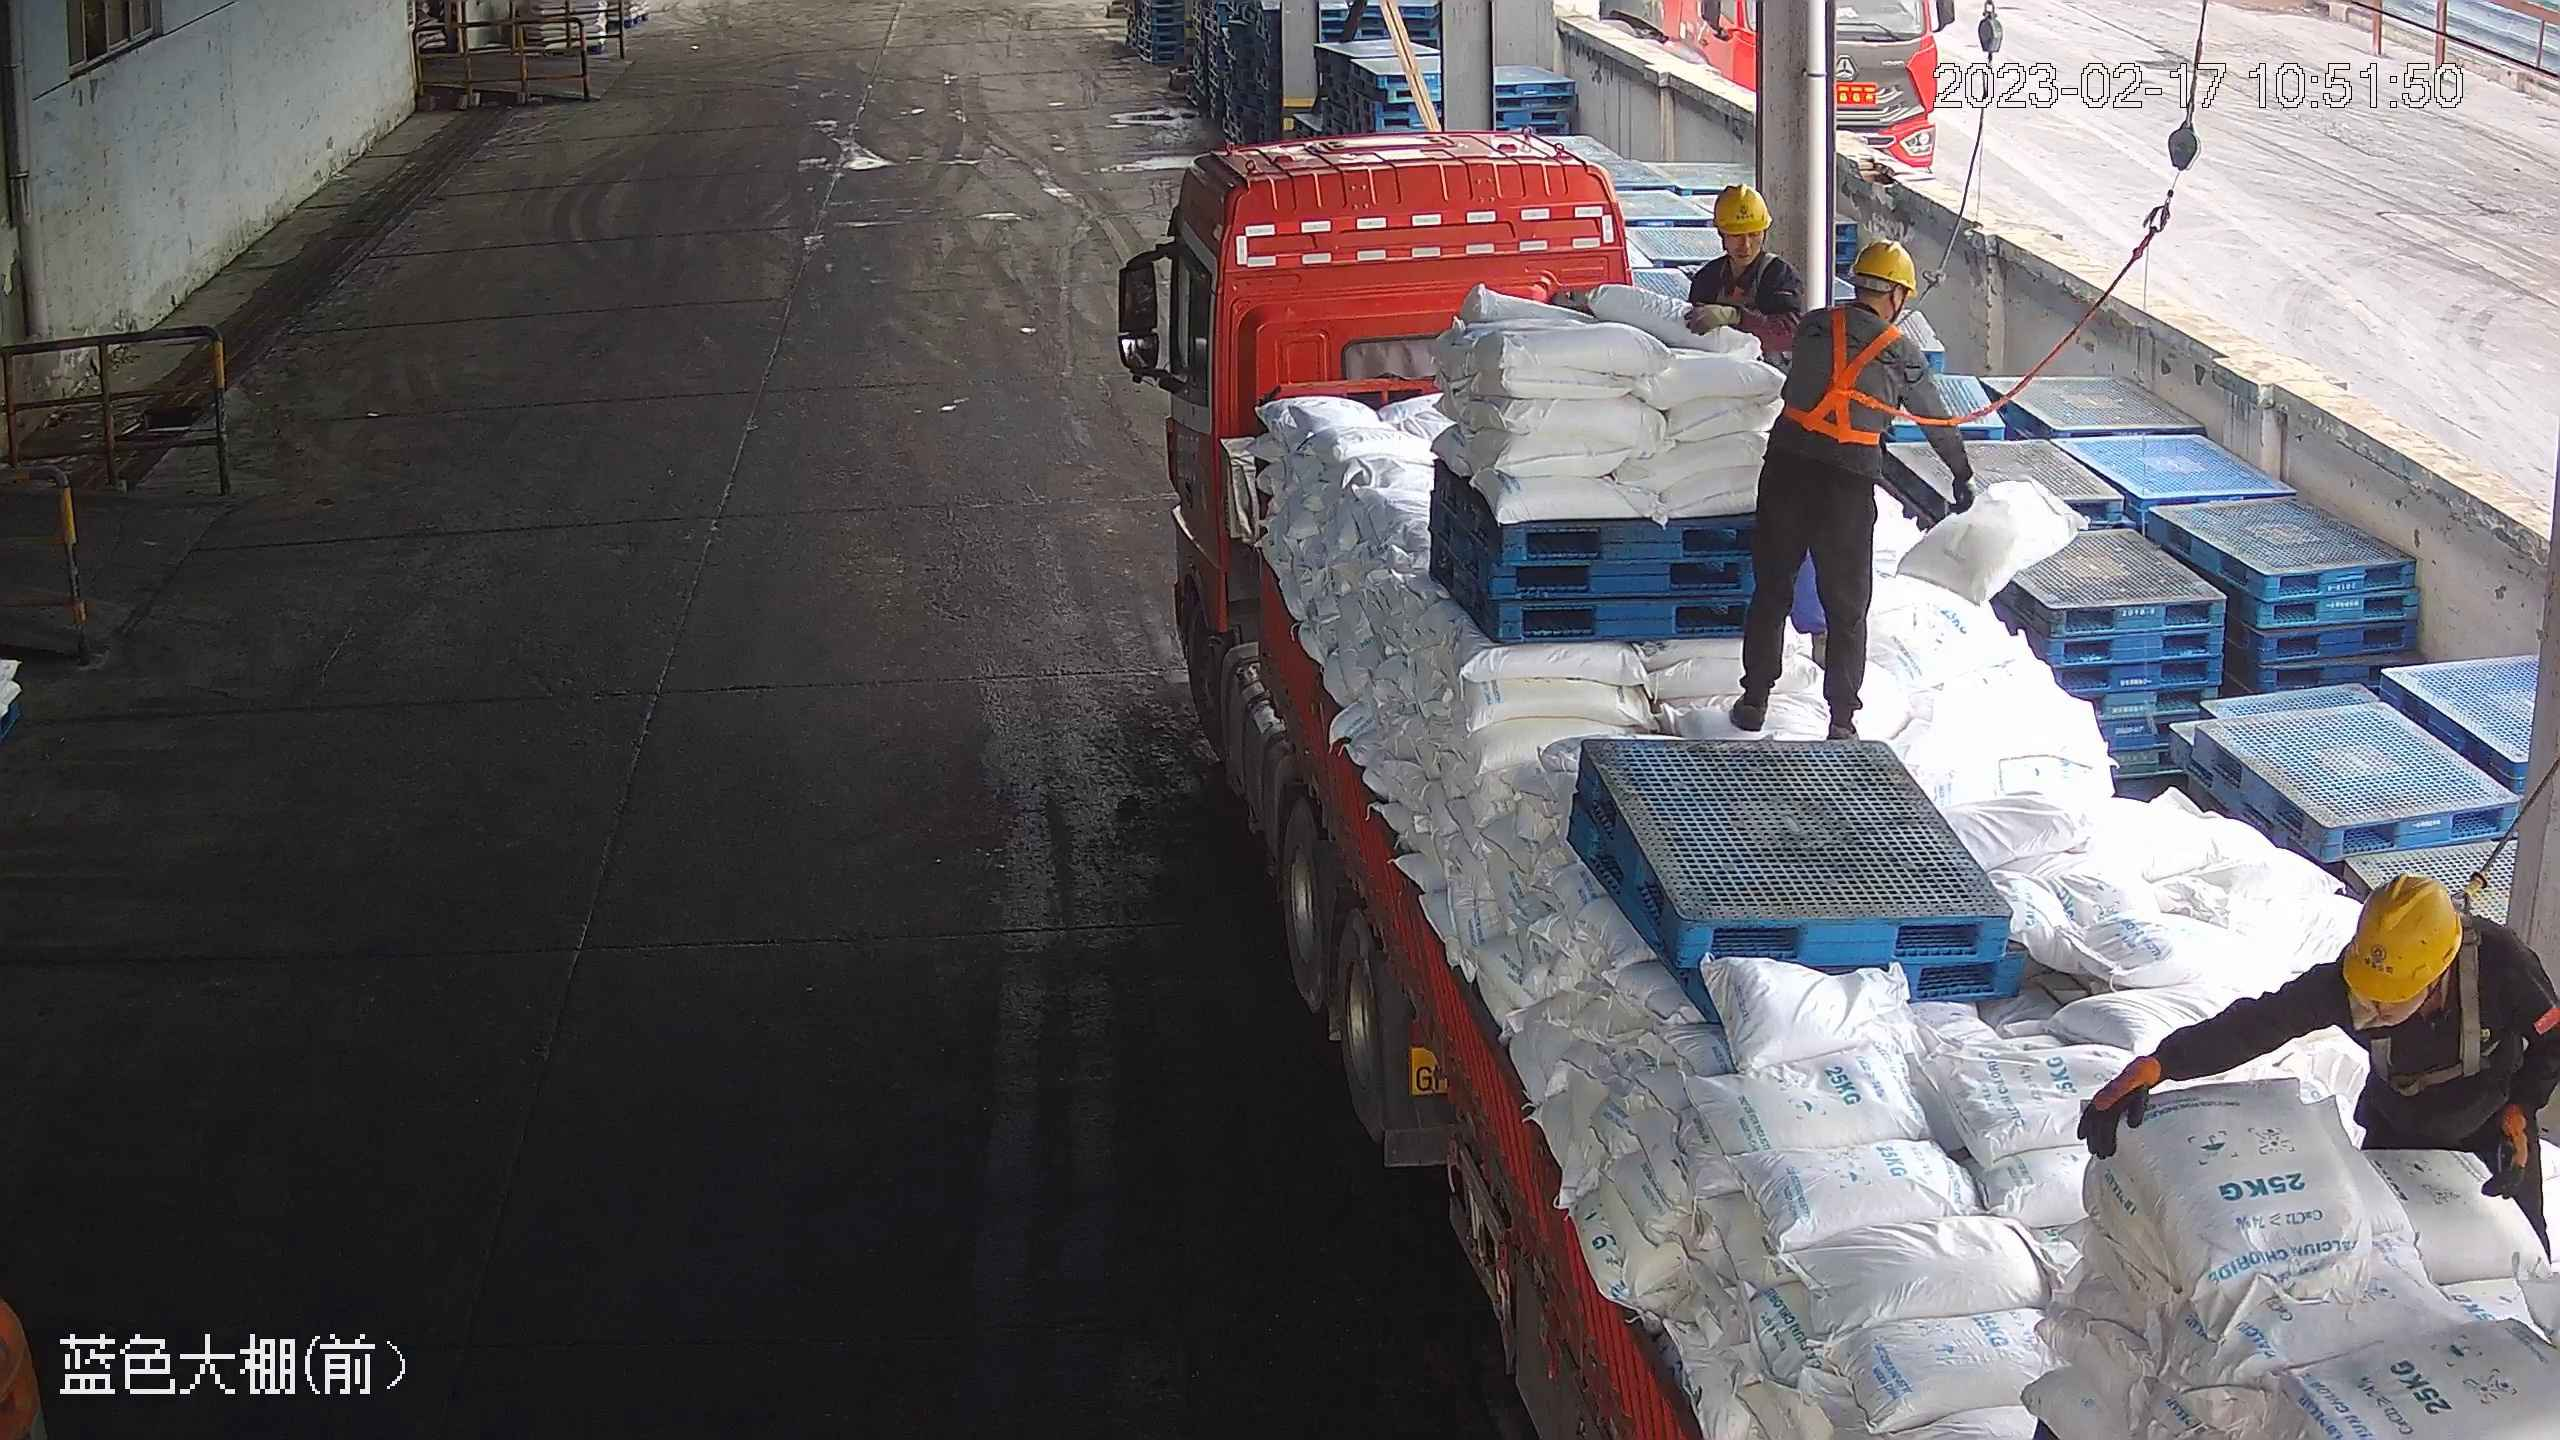belt: (2371, 918, 2486, 1083), (1787, 302, 1908, 445), (1719, 247, 1781, 317)
head: (2325, 868, 2531, 1080), (1789, 236, 1943, 381), (1692, 182, 1803, 295)
helmet: (2347, 870, 2469, 1006), (1850, 235, 1919, 300), (1711, 182, 1772, 232)
people: (2088, 861, 2560, 1272), (1730, 234, 1976, 737)
truck: (1120, 129, 2551, 1440)
